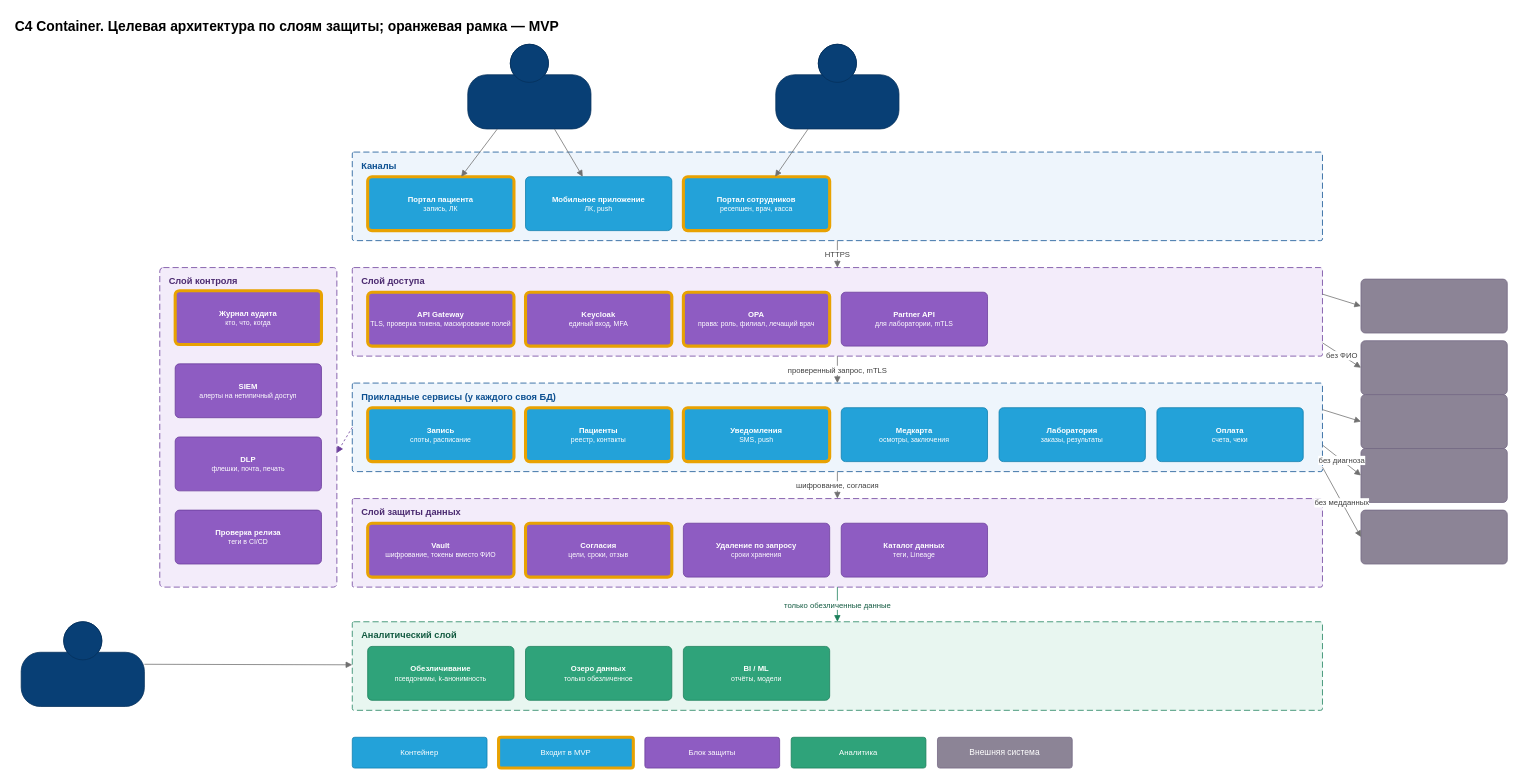
The diagram is 1521 pixels wide and 782 high, and some of its shapes have lost their labels. Here are the shapes that lost their labels. From the top down, the centre of each, then its label:
At [529,86]: "Пациент [Person]".
At [837,86]: "Сотрудники [Person]".
At [1433,305]: "ЕСИА [External] вход пациента".
At [1433,367]: "Лаборатория [External] по API".
At [1433,421]: "Банк [External] оплата картой".
At [1433,475]: "SMS-провайдер [External] напоминания".
At [1433,536]: "1С [External] бухгалтерия".
At [82,663]: "Аналитик [Person]".
